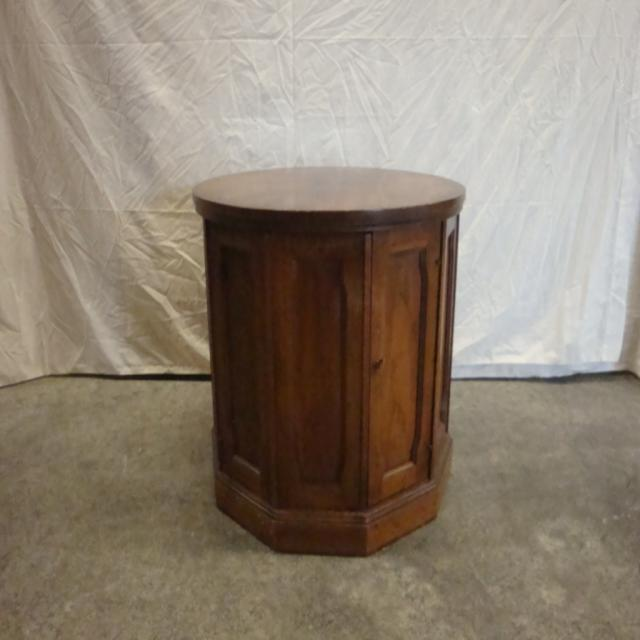obstacle: (160, 98, 496, 578)
